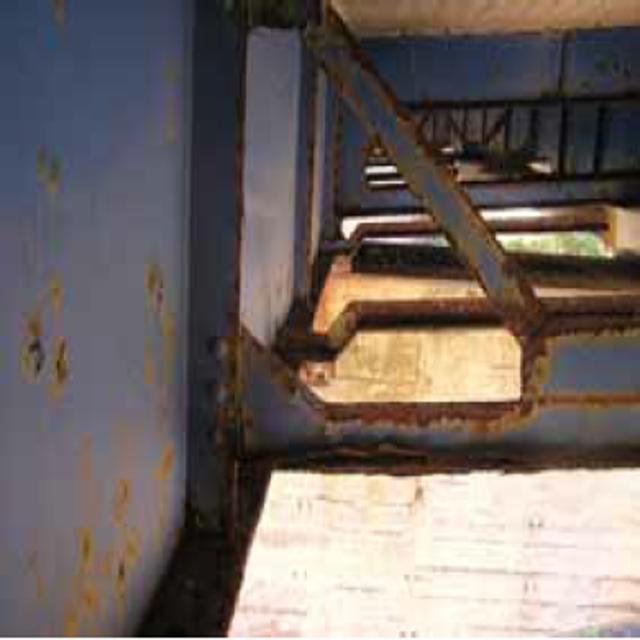corrosion: (237, 19, 602, 444), (20, 274, 231, 626)
